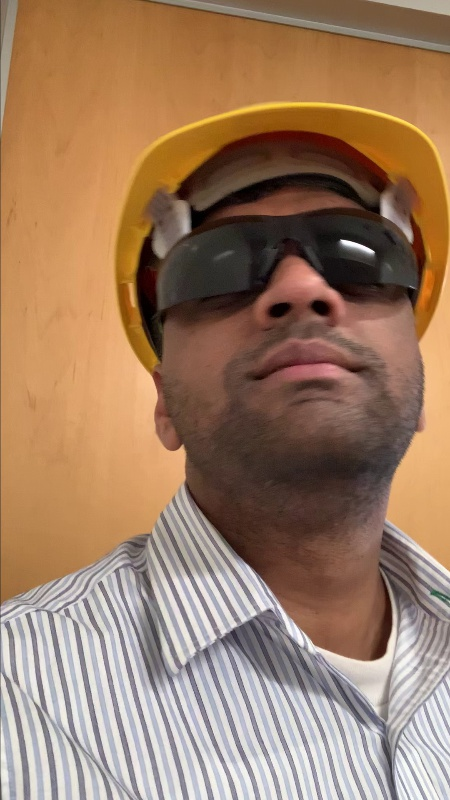glasses: (137, 211, 443, 314)
helmet: (70, 85, 450, 223)
